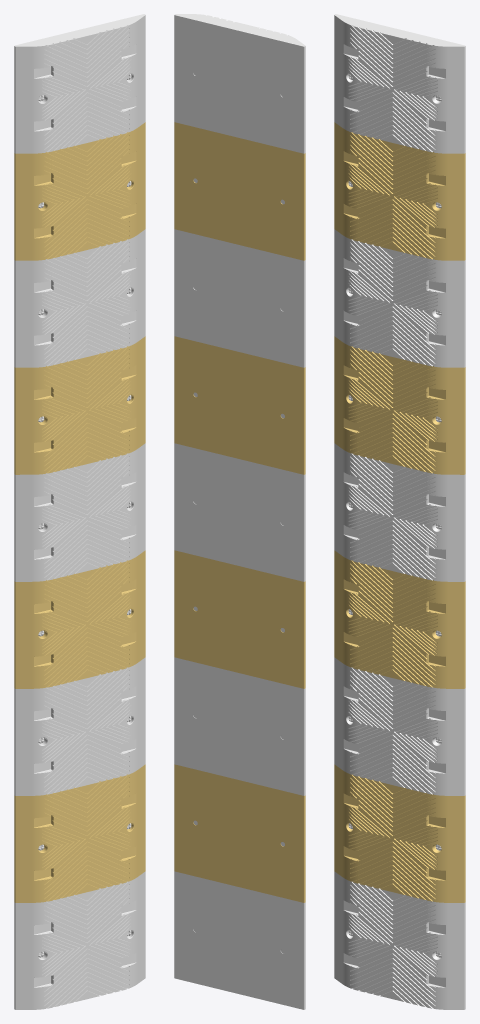
File: 减速带.gltf
3 views of the same model, side by side, from view 1: azimuth 30°, elevation 25°; view 2: azimuth 150°, elevation 25°; view 3: azimuth 330°, elevation 25° (orthographic).
Parts seen in each view (by area): view 1: Default (×2); view 2: Default (×2); view 3: Default (×2).
Boxes of the visible parts, left/top/right/bottom form: Default (×2): left=14, top=14, right=145, bottom=1009; Default (×2): left=174, top=14, right=305, bottom=1009; Default (×2): left=334, top=14, right=465, bottom=1009.
Size of the model in its own units: 0.6473 by 4.57 by 0.0716.
